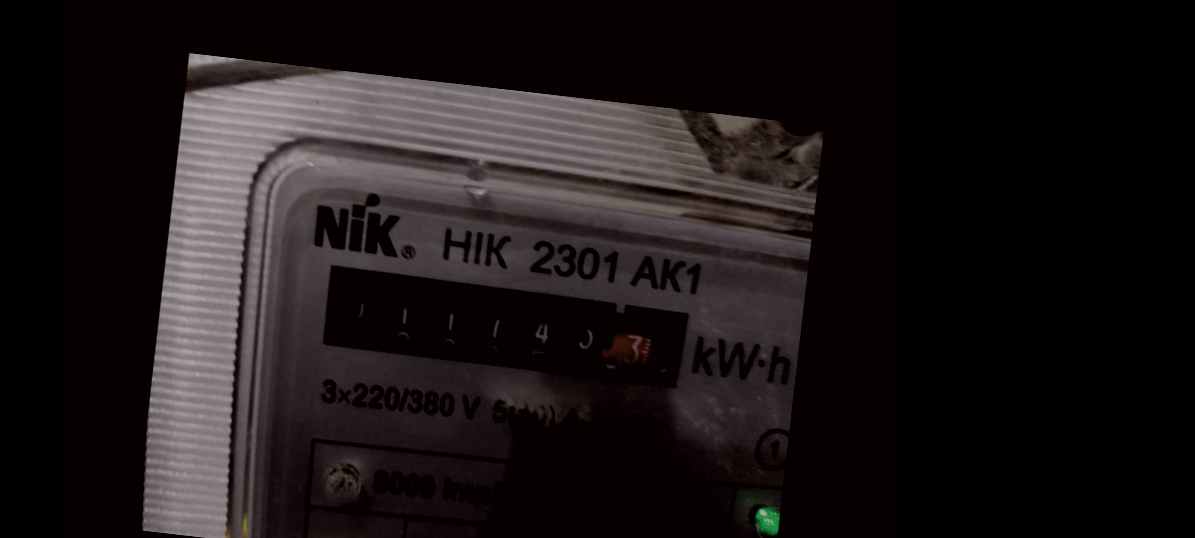0: (345, 282, 372, 323), (395, 286, 417, 329)
1: (441, 293, 462, 335)
3: (575, 311, 600, 356), (622, 330, 646, 370)
4: (531, 306, 555, 348)
7: (484, 298, 512, 344)
screen: (302, 251, 700, 401)
